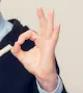left: (10, 6, 64, 80)
